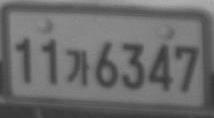1: (38, 37, 62, 85), (14, 37, 37, 83)
3: (122, 43, 144, 88)
4: (148, 44, 173, 90)
6: (95, 41, 117, 87)
7: (174, 46, 200, 91)
가: (65, 49, 90, 86)
